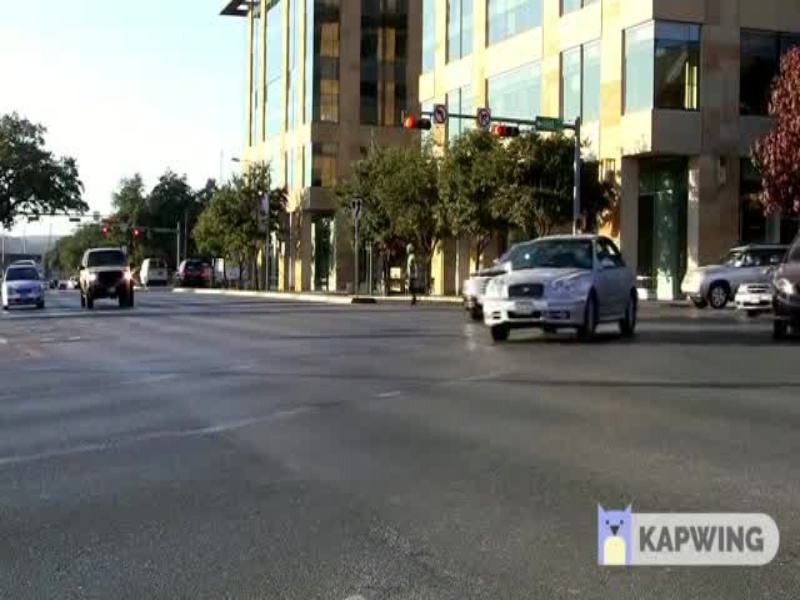car: (475, 238, 655, 330), (75, 240, 143, 306), (1, 261, 49, 316)
